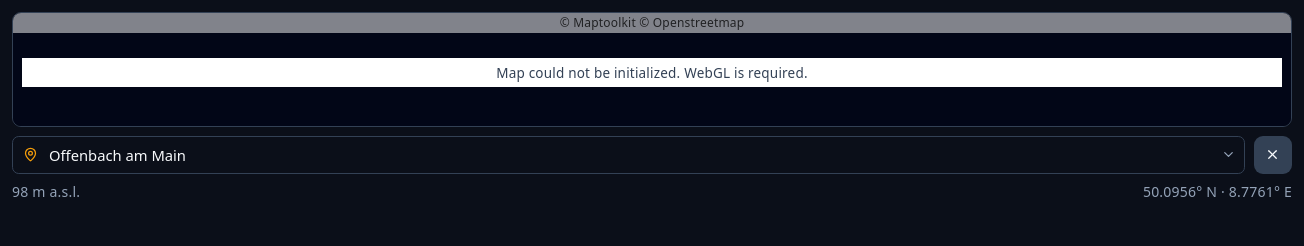
Test: LocationSelector Component › Location History and Suggestions › drop-down arrow (spec §16.5, #166) › drops a pending search and notes an empty history
The image size is (1304, 246).
Replace the text in the field with placeholder "Search location..." with "Boz": (628, 155) [12,136,1245,174]
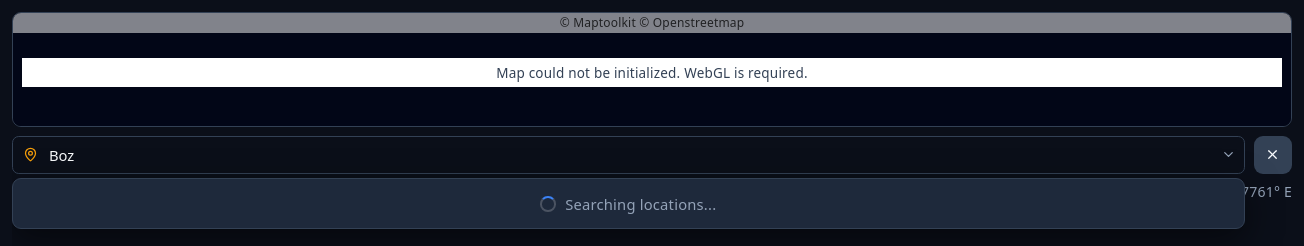
Click the button named "Show most-used locations": (1228, 155) [1218,145,1238,164]
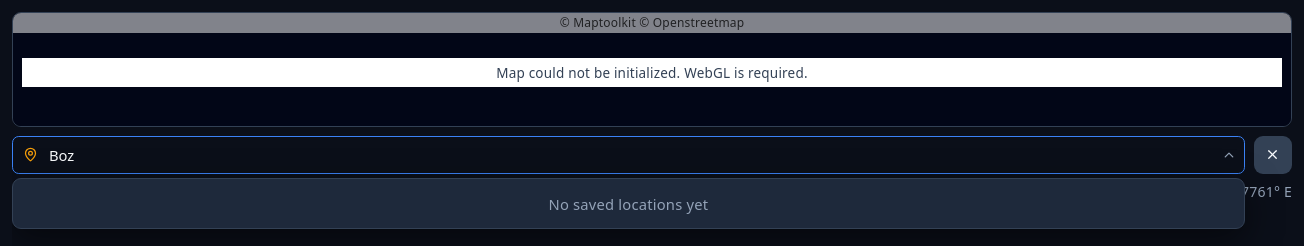
Expected: the text "No saved locations yet" is shown, [548,193,708,215]
